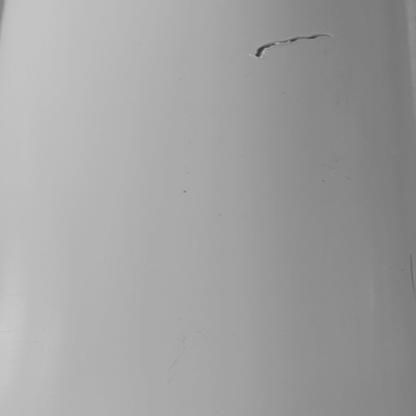fengxi: (251, 32, 336, 61)
